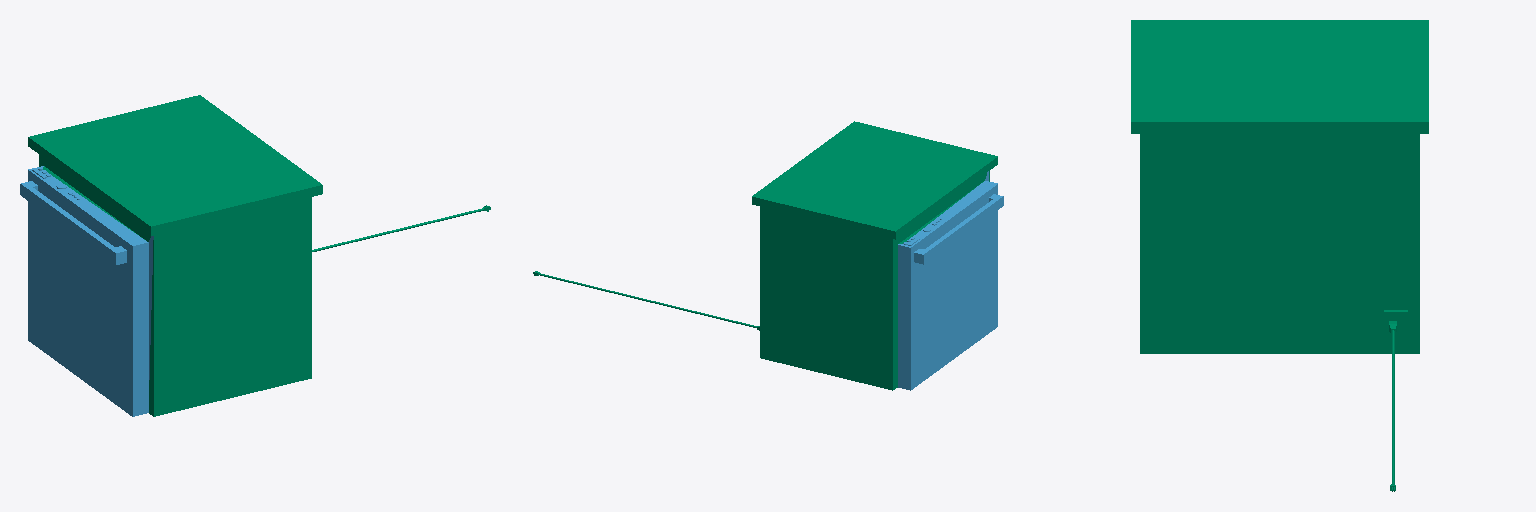
URDF robot description (partnet_55b0f47aea128c3b91d8be9599fbaa1f):
<?xml version="1.0" ?>
<robot name="partnet_55b0f47aea128c3b91d8be9599fbaa1f">
	<link name="base"/>
	<link name="link_0">
		<visual name="door_frame-6">
			<origin xyz="-0.3180330000000007 0.2845779665918426 -0.22271248340280903"/>
			<geometry>
				<mesh filename="textured_objs/new-2.obj"/>
			</geometry>
		</visual>
		<visual name="handle-7">
			<origin xyz="-0.3180330000000007 0.2845779665918426 -0.22271248340280903"/>
			<geometry>
				<mesh filename="textured_objs/new-1.obj"/>
			</geometry>
		</visual>
		<collision>
			<origin xyz="-0.3180330000000007 0.2845779665918426 -0.22271248340280903"/>
			<geometry>
				<mesh filename="textured_objs/new-2.obj"/>
			</geometry>
		</collision>
		<collision>
			<origin xyz="-0.3180330000000007 0.2845779665918426 -0.22271248340280903"/>
			<geometry>
				<mesh filename="textured_objs/new-1.obj"/>
			</geometry>
		</collision>
	</link>
	<joint name="joint_0" type="revolute">
		<origin xyz="0.3180330000000007 -0.2845779665918426 0.22271248340280903"/>
		<axis xyz="1 0 0"/>
		<child link="link_0"/>
		<parent link="link_1"/>
		<limit lower="0.0" upper="1.5707963267948966"/>
	</joint>
	<link name="link_1">
		<visual name="cord-3">
			<origin xyz="0 0 0"/>
			<geometry>
				<mesh filename="textured_objs/new-0.obj"/>
			</geometry>
		</visual>
		<visual name="frame-4">
			<origin xyz="0 0 0"/>
			<geometry>
				<mesh filename="textured_objs/new-3.obj"/>
			</geometry>
		</visual>
		<collision>
			<origin xyz="0 0 0"/>
			<geometry>
				<mesh filename="textured_objs/new-0.obj"/>
			</geometry>
		</collision>
		<collision>
			<origin xyz="0 0 0"/>
			<geometry>
				<mesh filename="textured_objs/new-3.obj"/>
			</geometry>
		</collision>
	</link>
	<joint name="joint_1" type="fixed">
		<origin rpy="1.570796326794897 0 -1.570796326794897" xyz="0 0 0"/>
		<child link="link_1"/>
		<parent link="base"/>
	</joint>
</robot>

--- What the picture shows (computed from the rendered views, not written in the file) ---
Views: 3 orthographic renders of the robot side by side, from view 1: azimuth 30°, elevation 25°; view 2: azimuth 150°, elevation 25°; view 3: azimuth 270°, elevation 25°.
Model partnet_55b0f47aea128c3b91d8be9599fbaa1f with 3 links and 2 joints (1 revolute, 1 fixed), rooted at base, posed every joint at zero.
Links seen in each view (by area): view 1: link_1, link_0; view 2: link_1, link_0; view 3: link_1.
Link boxes in pixels (x1,y1,x2,y2): link_1: [28, 95, 490, 416]; link_0: [20, 166, 153, 416]; link_1: [533, 121, 997, 390]; link_0: [898, 171, 1003, 390]; link_1: [1131, 20, 1428, 491].
Size in the robot's own frame: 1.47 by 0.6687 by 0.5847 metres.
Meshes: 4 distinct files referenced, 4 mesh visuals loaded (4 OBJ).